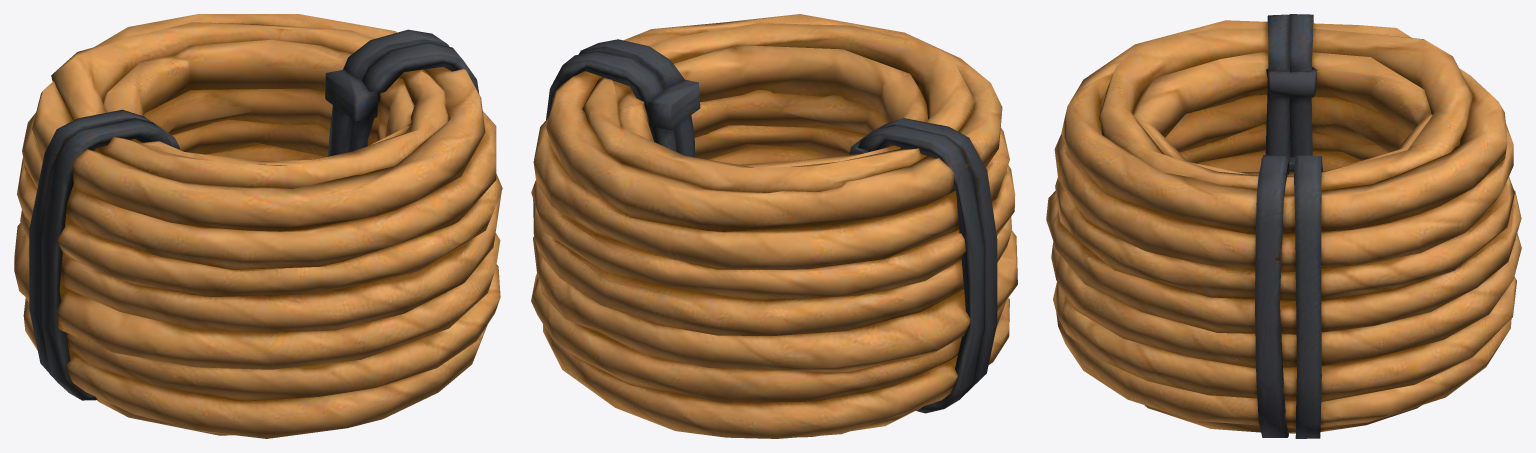
The model's file is rope.glb.
3 renders of one model, left to right at view 1: azimuth 30°, elevation 25°; view 2: azimuth 150°, elevation 25°; view 3: azimuth 270°, elevation 25°, orthographic. The views are drawn at different scales.
Visible parts, largest first — view 1: rope; view 2: rope; view 3: rope.
Boxes of the visible parts, x1,y1,x2,y2 form: rope: (14, 14, 502, 438); rope: (531, 14, 1017, 438); rope: (1046, 14, 1521, 438).
Bounding box in the file's own units: 0.25 × 0.1539 × 0.2485.
1 material, 1 textured.
